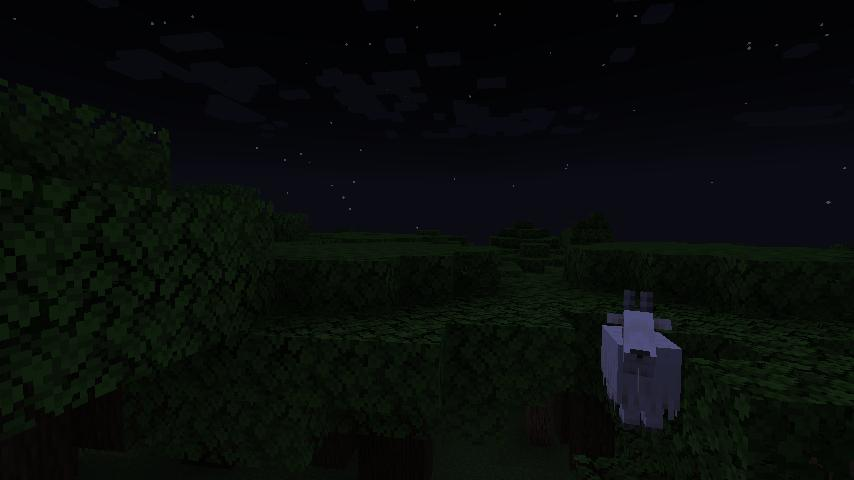goat: (599, 287, 683, 427)
